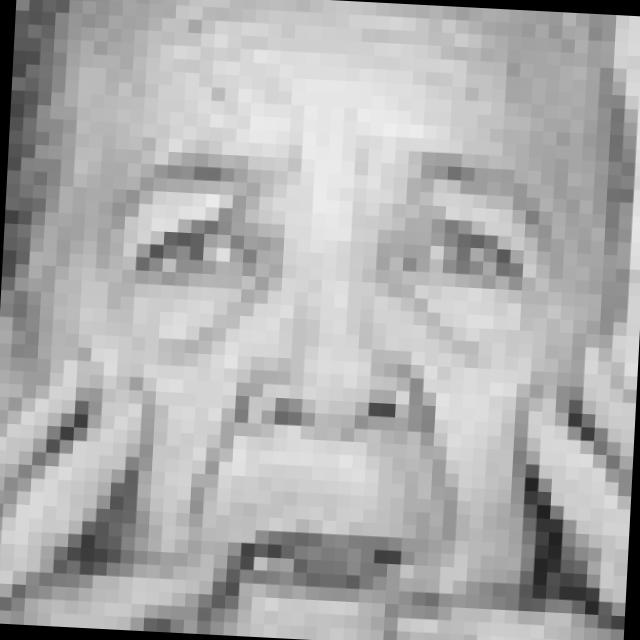fear: (88, 103, 580, 638)
